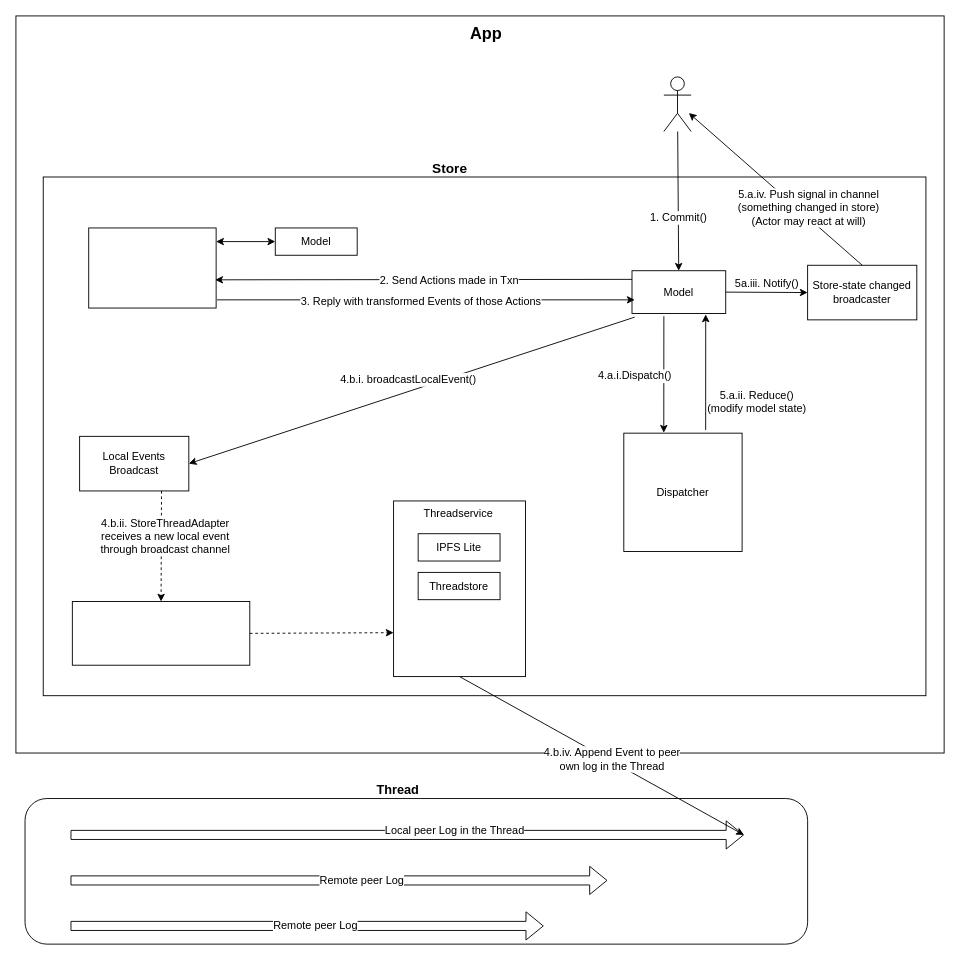
Some shapes in this 960 by 960 pixel diagram are drawn without their labels. Each missing label, with the centre of its shape:
"Actor" goes at pixel 677 103.
"EventCodec (json-patch/merge) (json-crdt)" goes at pixel 152 267.
"StoreThreadAdapter" goes at pixel 160 633.
